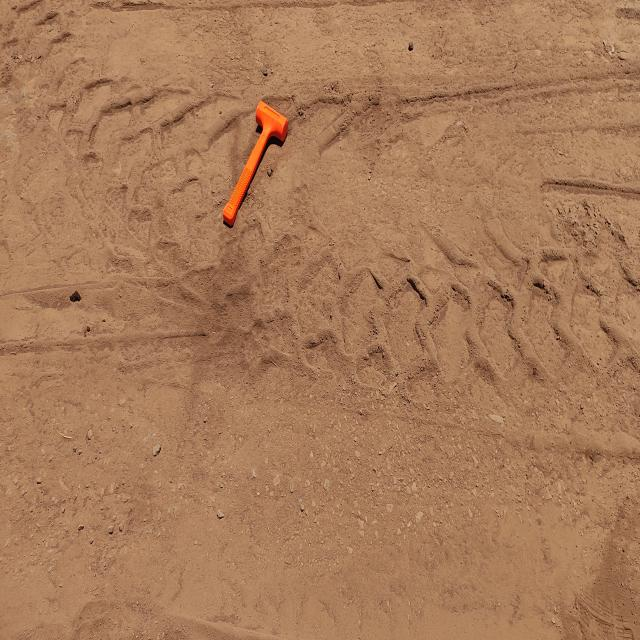Orange_hammer: (222, 99, 288, 228)
